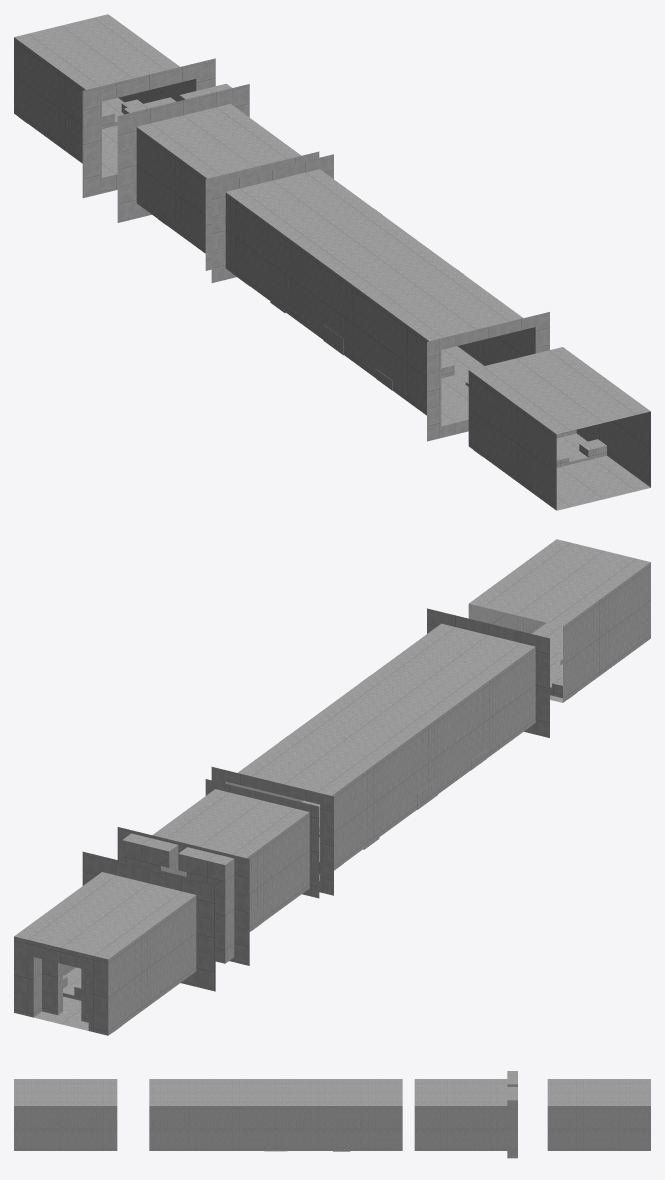
File: maze.obj
The picture shows the model from 3 angles, top to bottom: view 1: azimuth 30°, elevation 25°; view 2: azimuth 150°, elevation 25°; view 3: azimuth 270°, elevation 25°; orthographic projection. The views are drawn at different scales.
Parts seen in each view (by area): view 1: Box01; view 2: Box01; view 3: Box01.
Boxes of the visible parts, bbox=[...] form: Box01: bbox=[14, 14, 650, 510]; Box01: bbox=[14, 539, 650, 1035]; Box01: bbox=[14, 1071, 650, 1158].
Bounding box in the file's own units: 254 × 196 × 1795.
1 material, 1 textured.
